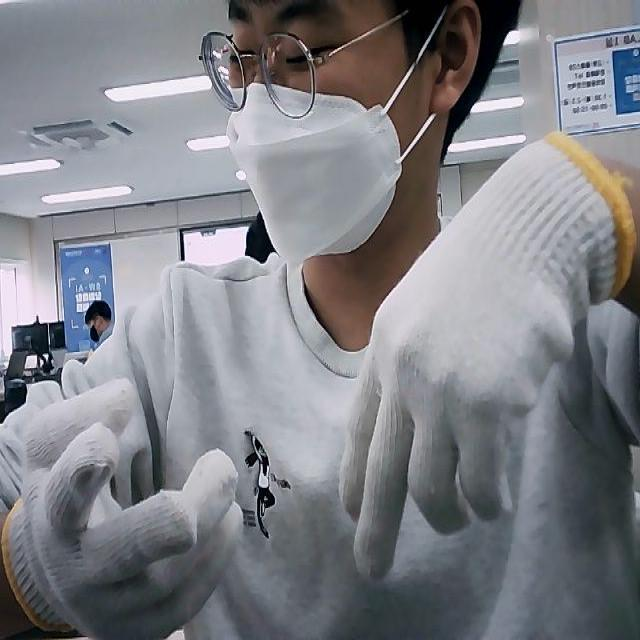gloves: (336, 134, 634, 580), (1, 376, 246, 640)
